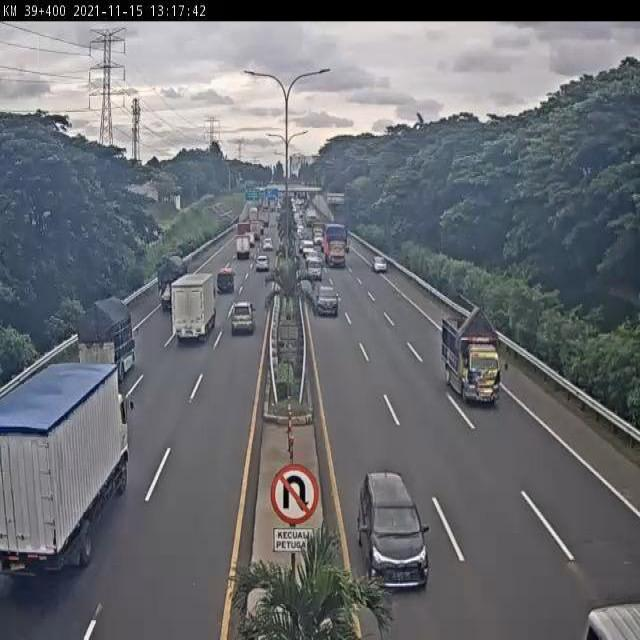big truck: (319, 224, 351, 275)
car: (358, 465, 430, 591), (229, 299, 256, 337), (315, 284, 342, 320), (305, 255, 325, 282), (373, 252, 389, 275)
small truck: (430, 308, 513, 415), (216, 261, 237, 295)
truck-m-: (0, 361, 133, 588), (77, 296, 132, 388), (170, 270, 216, 346), (157, 255, 188, 312)
